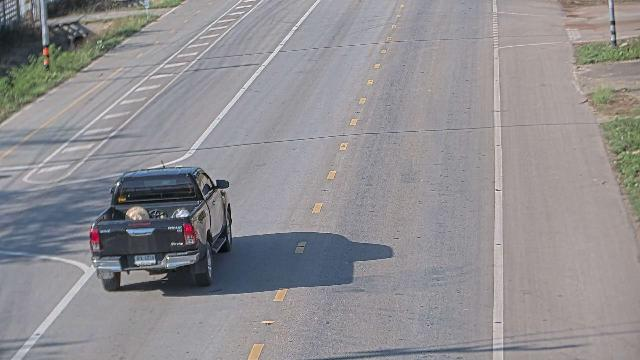pickup-truck: (88, 162, 233, 291)
